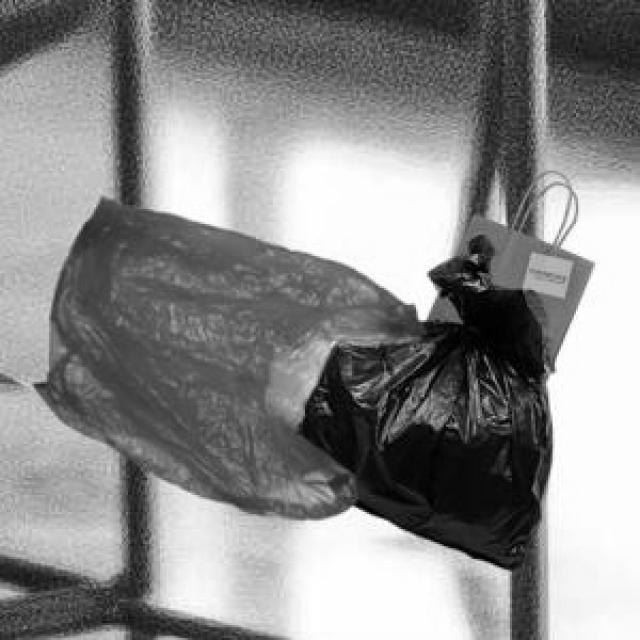miscellaneous trash: (292, 226, 550, 565)
paper: (422, 211, 589, 352)
